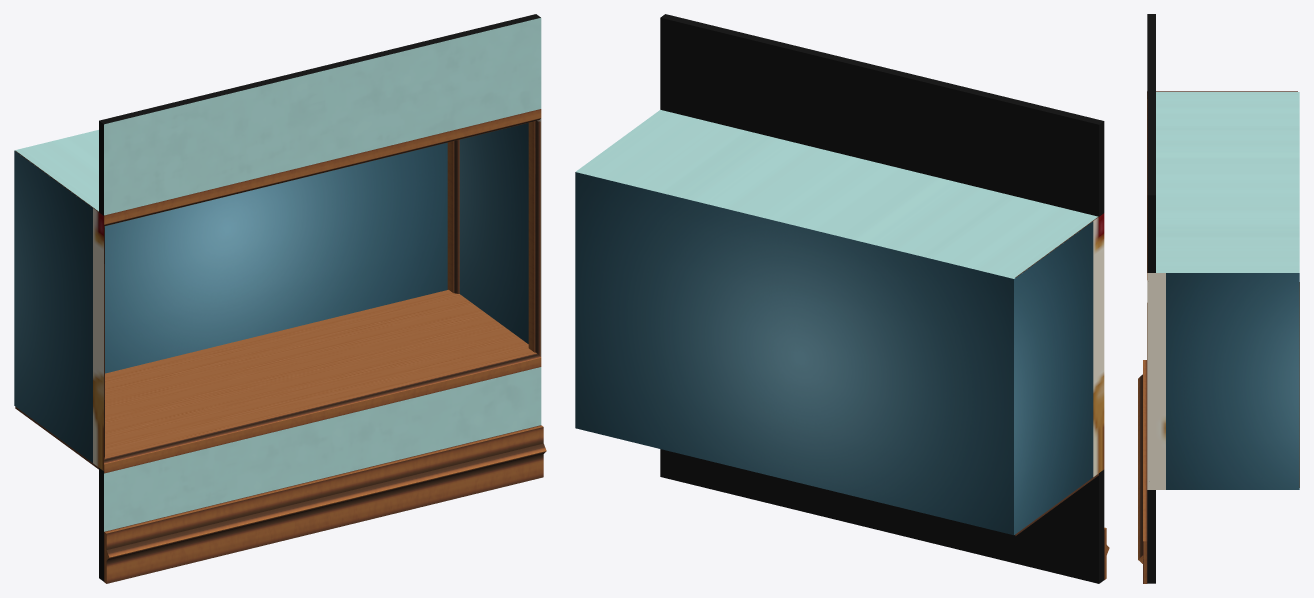
The model's file is Wall_Window_Display_B_08.FBX.
3 renders of one model, left to right at view 1: azimuth 30°, elevation 25°; view 2: azimuth 150°, elevation 25°; view 3: azimuth 270°, elevation 25°, orthographic. The views are drawn at different scales.
Visible parts, largest first — view 1: Wall_Window DisplayB; view 2: Wall_Window DisplayB; view 3: Wall_Window DisplayB.
Boxes of the visible parts, <box> form: Wall_Window DisplayB: <box>14,14,546,583</box>; Wall_Window DisplayB: <box>575,14,1109,583</box>; Wall_Window DisplayB: <box>1138,14,1299,583</box>.
Bounding box in the file's own units: 500 × 500 × 189.
